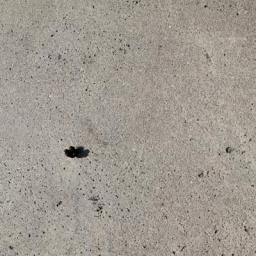FOD: (60, 145, 94, 164)
